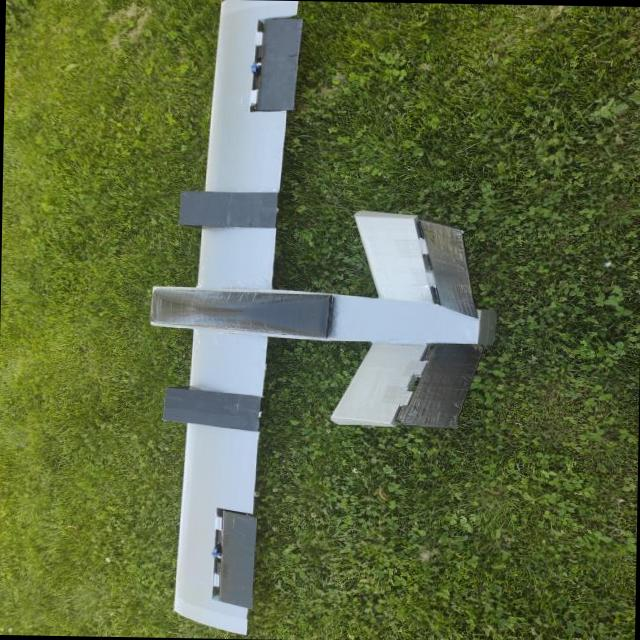UAV: (138, 0, 509, 636)
